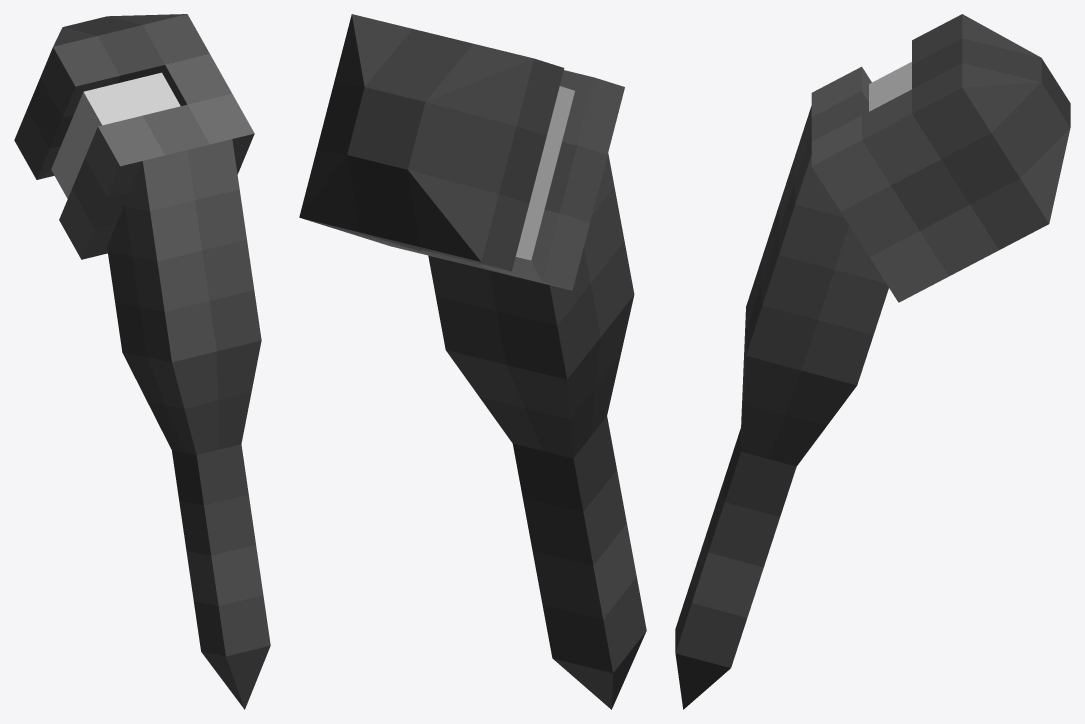
The model's file is leg_ender_back_l.obj.
The picture shows the model from 3 angles, left to right: view 1: azimuth 30°, elevation 25°; view 2: azimuth 150°, elevation 25°; view 3: azimuth 270°, elevation 25°; orthographic projection. The views are drawn at different scales.
Parts seen in each view (by area): view 1: LEG_ENDER_LEFTBACK.OBSVAR_Cube.384; view 2: LEG_ENDER_LEFTBACK.OBSVAR_Cube.384; view 3: LEG_ENDER_LEFTBACK.OBSVAR_Cube.384.
Boxes of the visible parts, x1=… form: LEG_ENDER_LEFTBACK.OBSVAR_Cube.384: x1=14, y1=14, x2=270, y2=709; LEG_ENDER_LEFTBACK.OBSVAR_Cube.384: x1=299, y1=14, x2=646, y2=709; LEG_ENDER_LEFTBACK.OBSVAR_Cube.384: x1=675, y1=14, x2=1070, y2=709.
Bounding box in the file's own units: 0.1875 × 0.784 × 0.4258.
